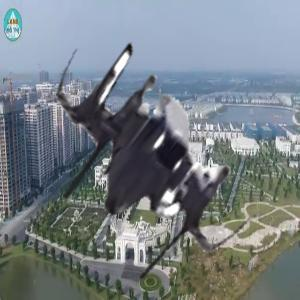drone: (20, 26, 280, 286)
